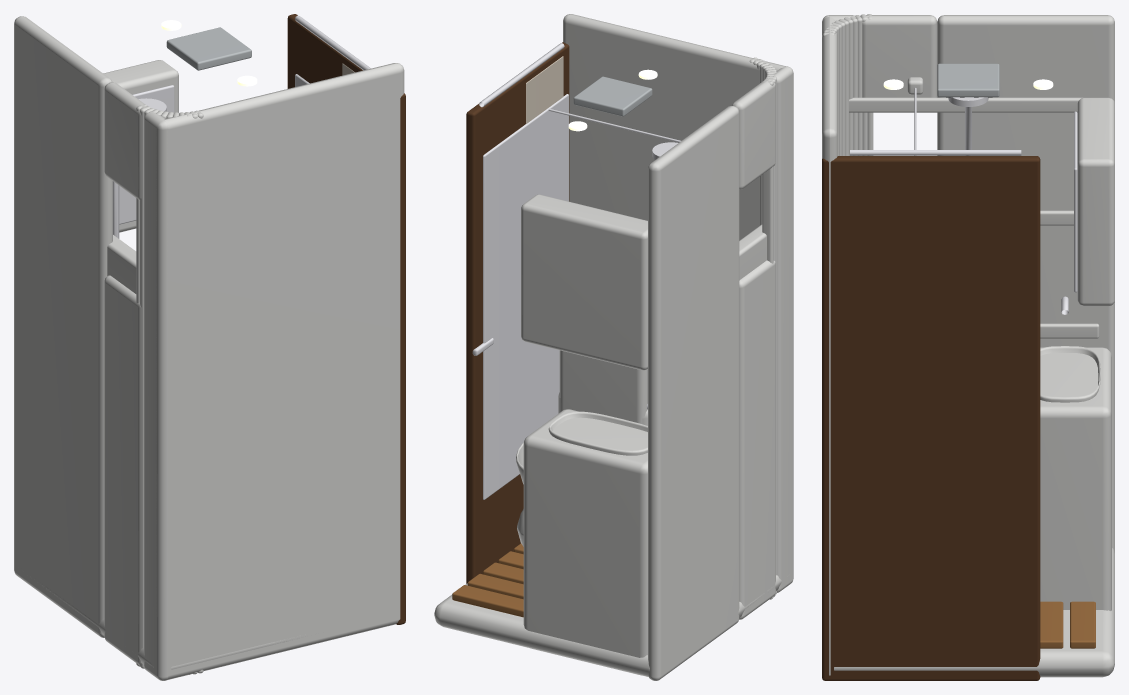
The model's file is washroom.glb.
3 renders of one model, left to right at view 1: azimuth 30°, elevation 25°; view 2: azimuth 150°, elevation 25°; view 3: azimuth 270°, elevation 25°, orthographic. The views are drawn at different scales.
Parts seen in each view (by area): view 1: washroom_pod, washroom_details; view 2: washroom_pod, washroom_details; view 3: washroom_details, washroom_pod.
Boxes of the visible parts, x1=… form: washroom_pod: x1=14, y1=15, x2=404, y2=680; washroom_details: x1=287, y1=14, x2=405, y2=624; washroom_pod: x1=434, y1=14, x2=793, y2=680; washroom_details: x1=466, y1=42, x2=569, y2=583; washroom_details: x1=822, y1=156, x2=1040, y2=680; washroom_pod: x1=822, y1=14, x2=1114, y2=677.
Size of the model in its own units: 0.9 by 1.95 by 0.9399.
